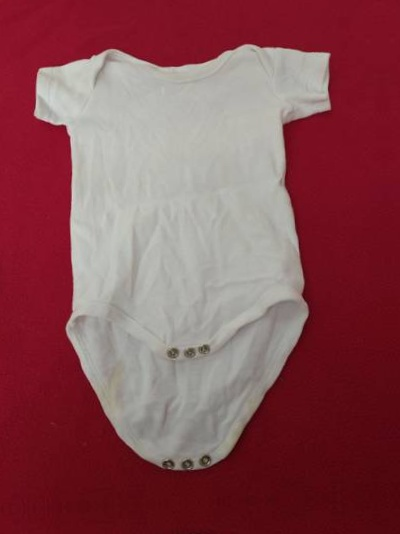Body: (0, 25, 362, 482), (15, 525, 379, 534)
